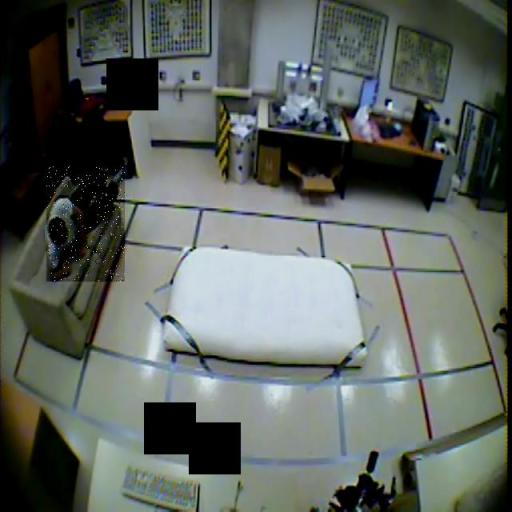Fall: (47, 167, 126, 282)
